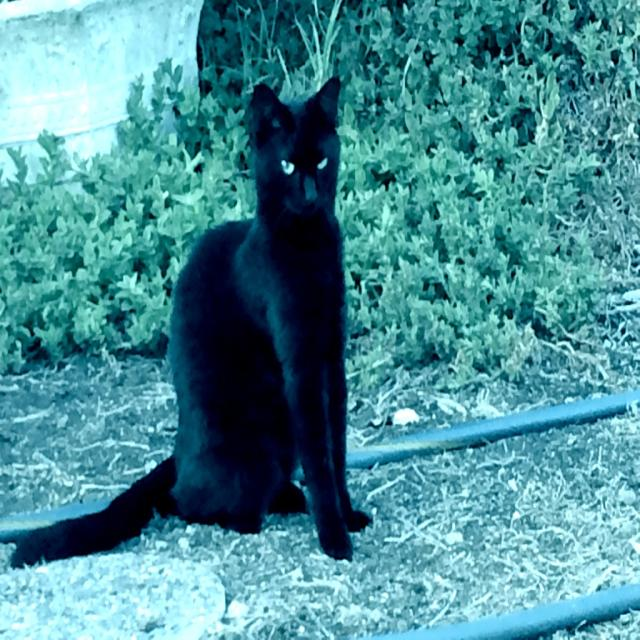Cat: (3, 70, 371, 562)
